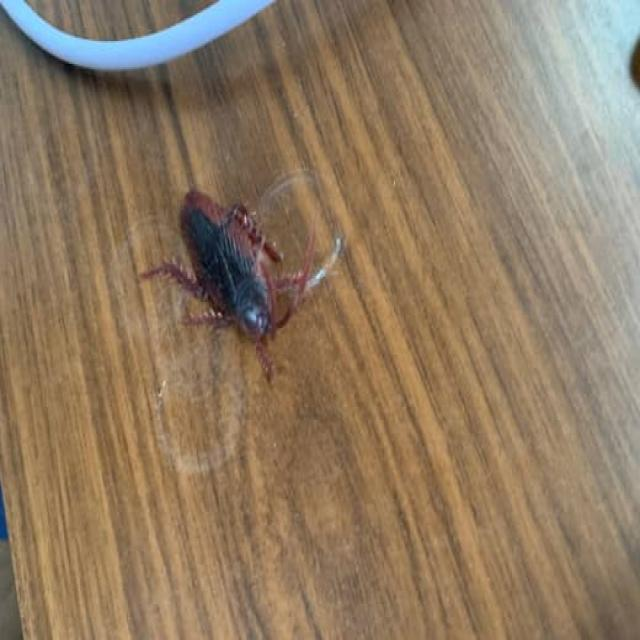Cockroach: (139, 174, 327, 399)
